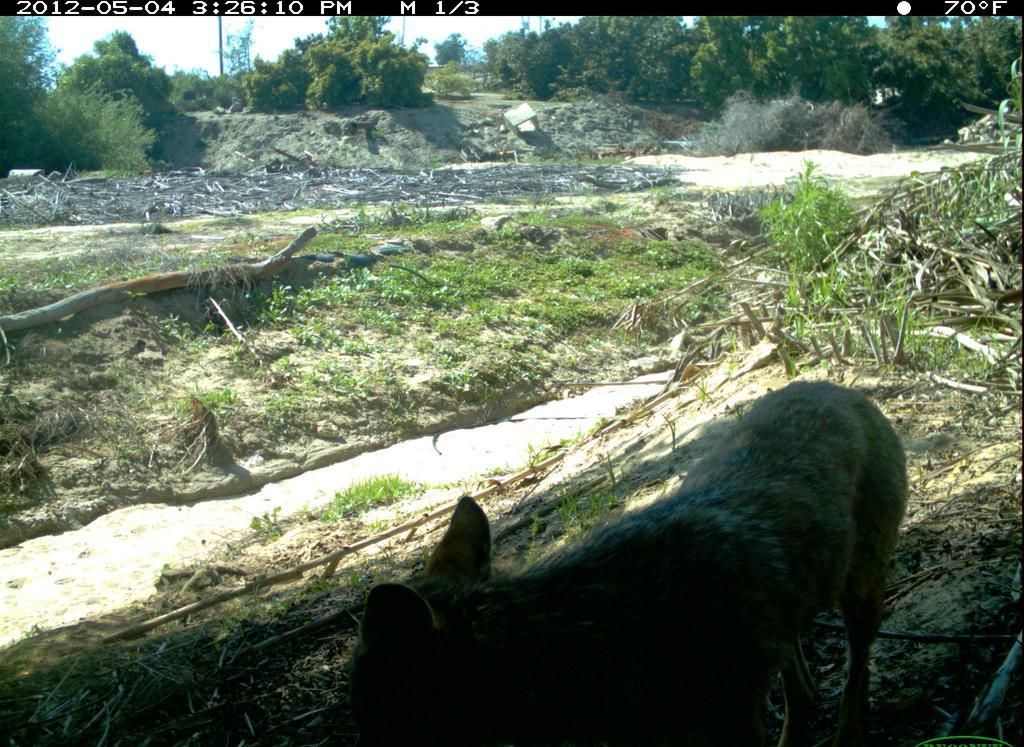coyote: (321, 378, 916, 747)
